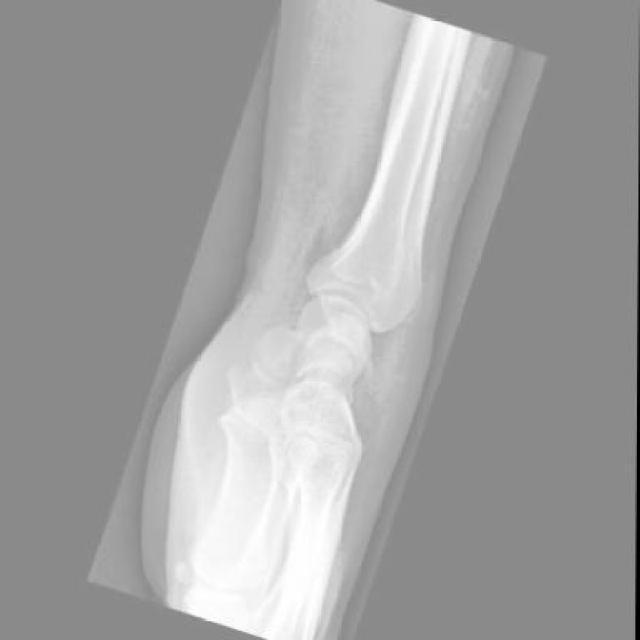Fracture: (354, 357, 379, 385)
